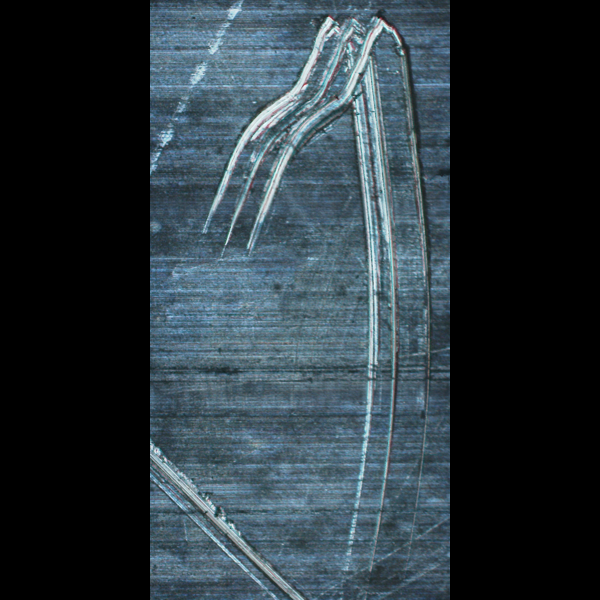d: (190, 5, 434, 584), (150, 425, 310, 600), (150, 0, 262, 180)
